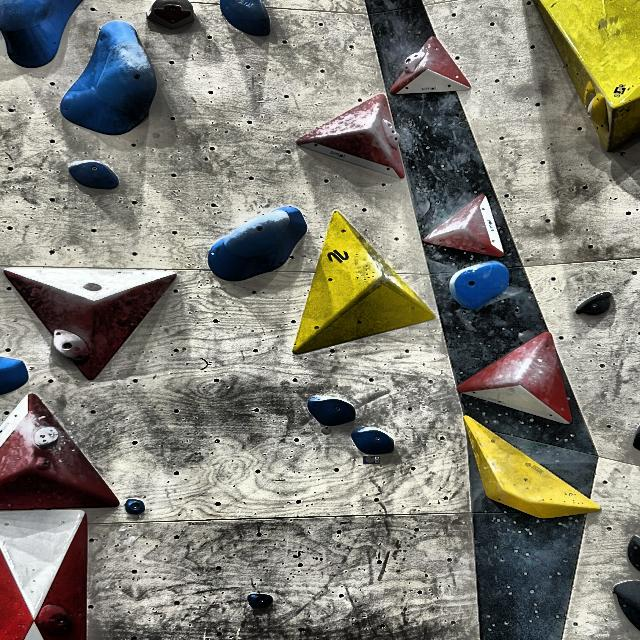Downclimb: (148, 0, 193, 27)
Hold: (61, 21, 156, 134), (208, 206, 307, 281), (0, 0, 82, 68), (450, 261, 509, 309), (219, 0, 270, 36), (307, 396, 356, 427), (69, 161, 119, 190), (53, 329, 90, 364), (36, 604, 74, 637), (351, 427, 394, 455), (576, 291, 612, 316), (588, 94, 611, 129), (33, 427, 61, 449), (403, 51, 426, 73), (382, 119, 398, 149), (247, 593, 273, 609), (124, 498, 145, 515), (584, 82, 596, 108), (35, 458, 51, 471), (83, 283, 102, 292)
Volume: (293, 211, 433, 353), (5, 268, 175, 380), (534, 0, 640, 150), (0, 394, 118, 511), (464, 417, 600, 518), (0, 509, 88, 640), (458, 333, 572, 424), (297, 94, 405, 178), (425, 195, 503, 257), (390, 36, 470, 94)
start_tag: (322, 427, 331, 434), (366, 456, 375, 463)
